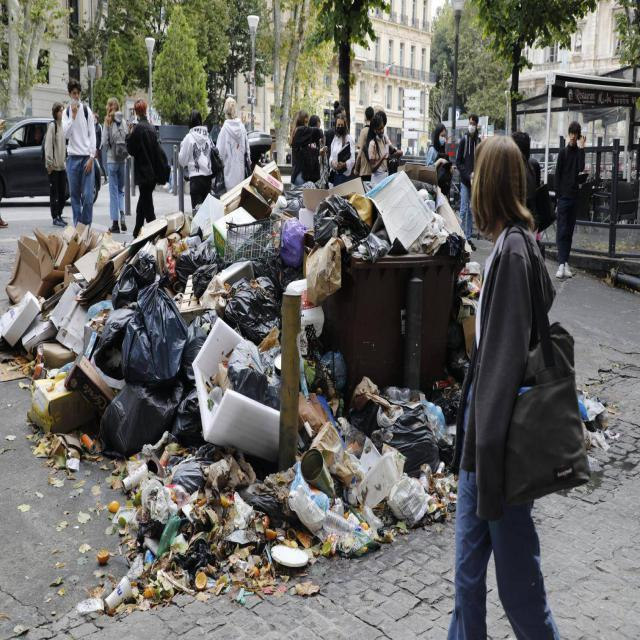Trashbag: (228, 279, 307, 350), (118, 297, 187, 370), (311, 188, 377, 252), (102, 394, 171, 448), (376, 412, 436, 467), (123, 263, 157, 295)
